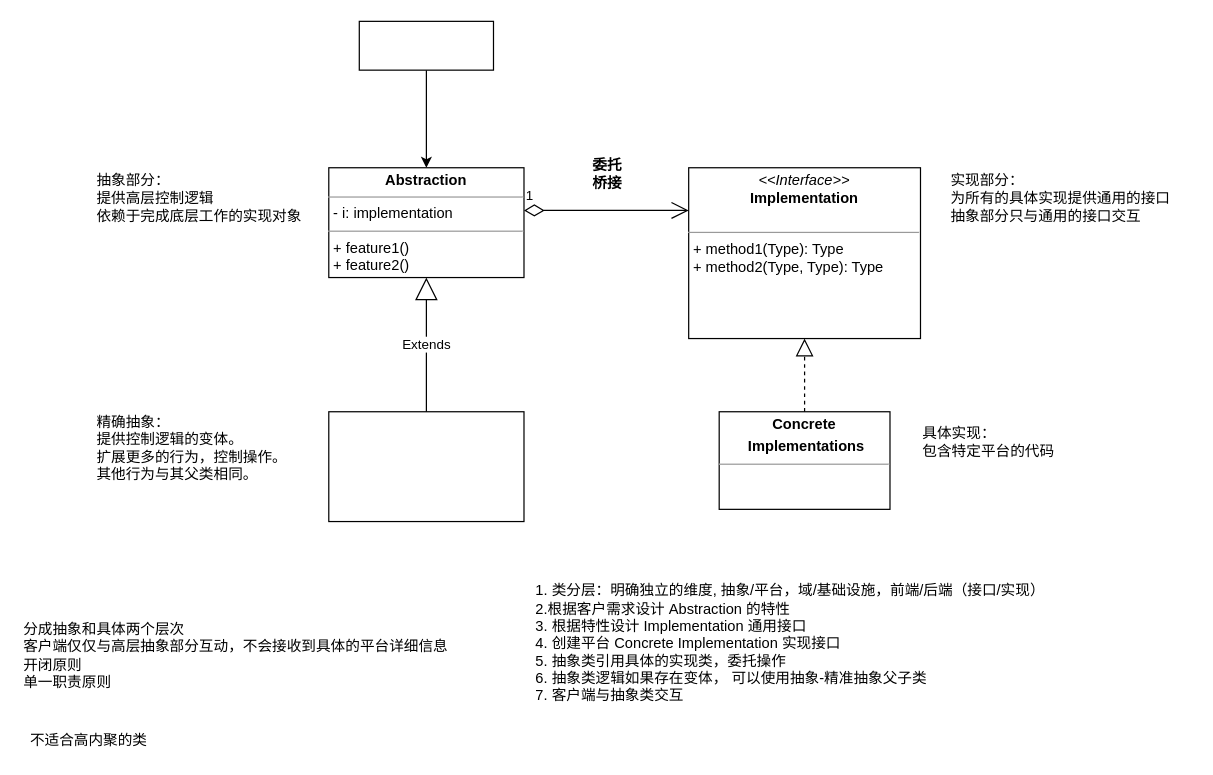
The diagram is 1213 pixels wide and 775 high, and some of its shapes have lost their labels. Each missing label, with the centre of its shape:
Client: (425,45)
Redefined Abstraction ... + featureN(): (426,466)
